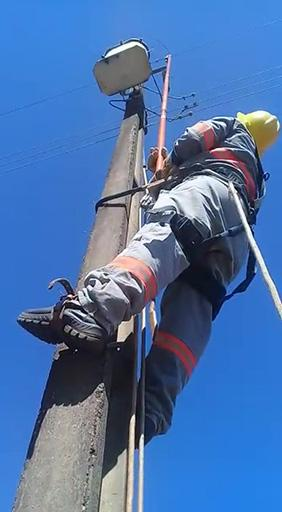Vara_Manobra: (154, 54, 173, 177)
